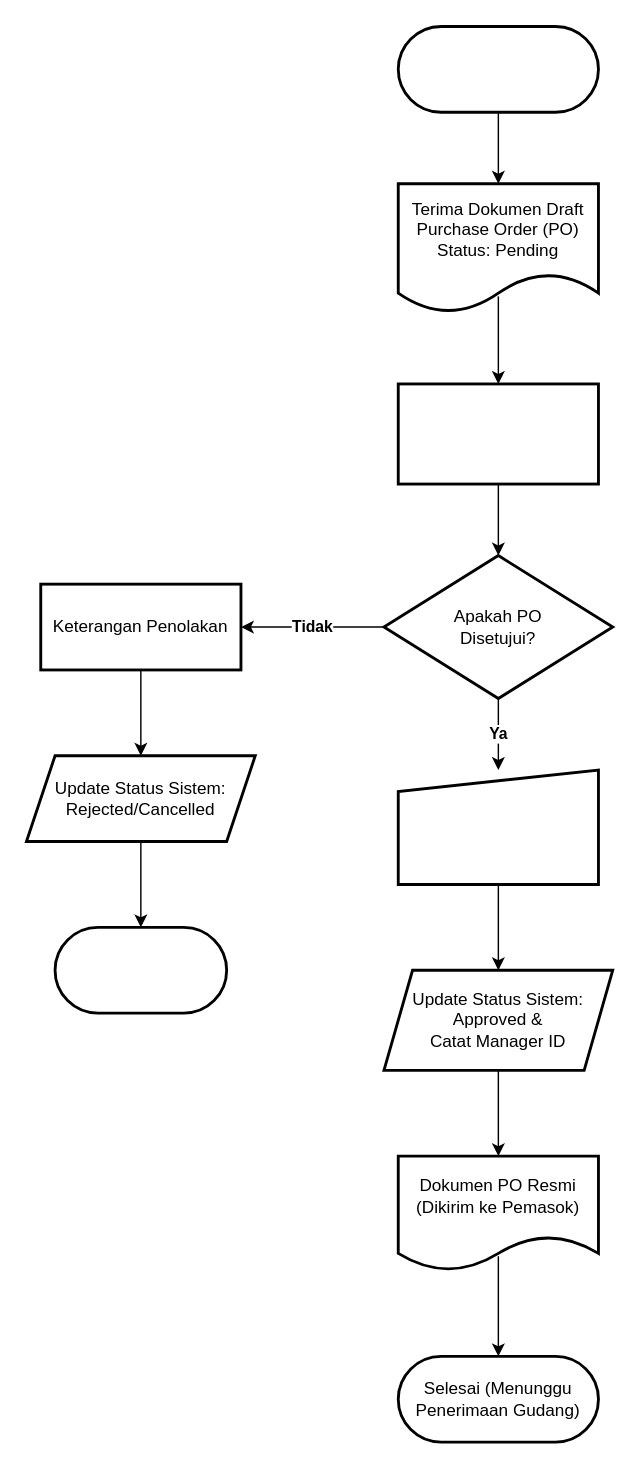
This 638x1467 diagram has some shape labels left out. Here are the shapes that lost their labels. From the top down, the centre of each, then its label:
At [497,68]: "Mulai: Notifikasi PO Baru".
At [497,433]: "Evaluasi Data Pesanan, Kapasitas Gudang, & Anggaran".
At [497,826]: "Pilih Opsi Approved (Aksi Manual Klik Sistem)".
At [140,969]: "Selesai".
